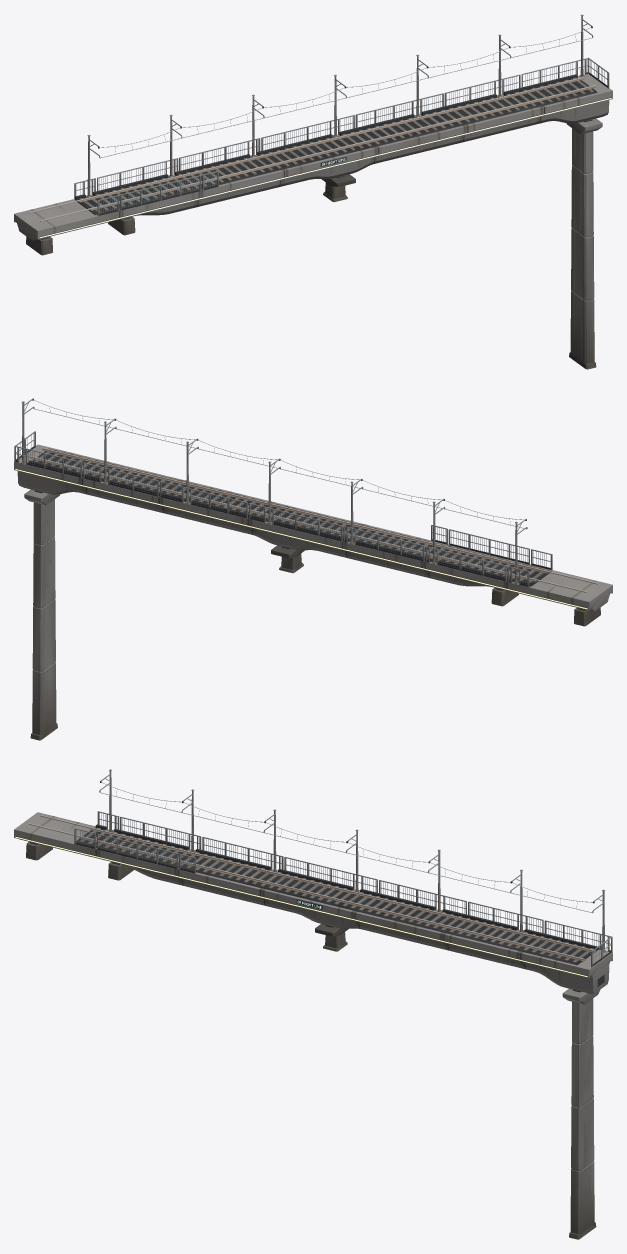
Rendered from viaduct221b.glb.
3 renders of one model, top to bottom at view 1: azimuth 30°, elevation 25°; view 2: azimuth 150°, elevation 25°; view 3: azimuth 330°, elevation 25°, orthographic.
Parts seen in each view (by area): view 1: v221-concrete, v221-dark, v221-steel, v221-rail, v221-led; view 2: v221-concrete, v221-steel, v221-dark, v221-rail, v221-led; view 3: v221-concrete, v221-dark, v221-steel, v221-rail, v221-led.
Part boxes in pixels (x1,y1,x2,y2): v221-concrete: (14,74,612,369); v221-dark: (39,26,611,343); v221-steel: (42,14,609,238); v221-rail: (28,76,596,221); v221-led: (39,98,611,238); v221-concrete: (14,444,612,740); v221-steel: (14,398,584,609); v221-dark: (15,398,587,714); v221-rail: (31,448,597,592); v221-led: (15,469,587,609); v221-concrete: (14,812,612,1239); v221-dark: (15,781,611,1213); v221-steel: (30,769,612,991); v221-rail: (29,815,596,961); v221-led: (15,836,587,977).
Bounding box in the file's own units: 42 × 23.47 × 3.05.
